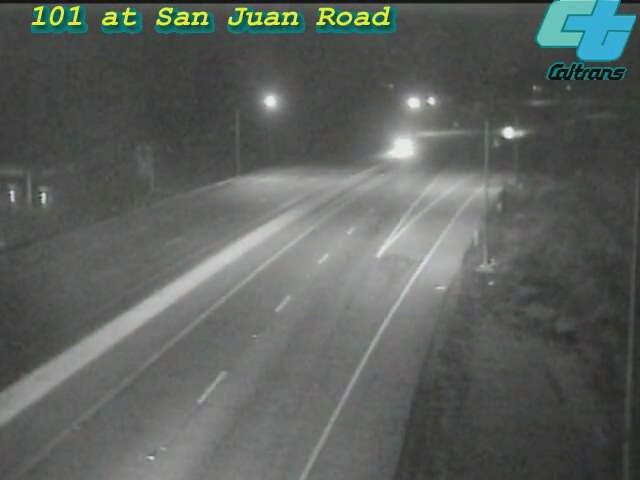vehicle: (373, 122, 423, 172), (483, 107, 533, 157)
